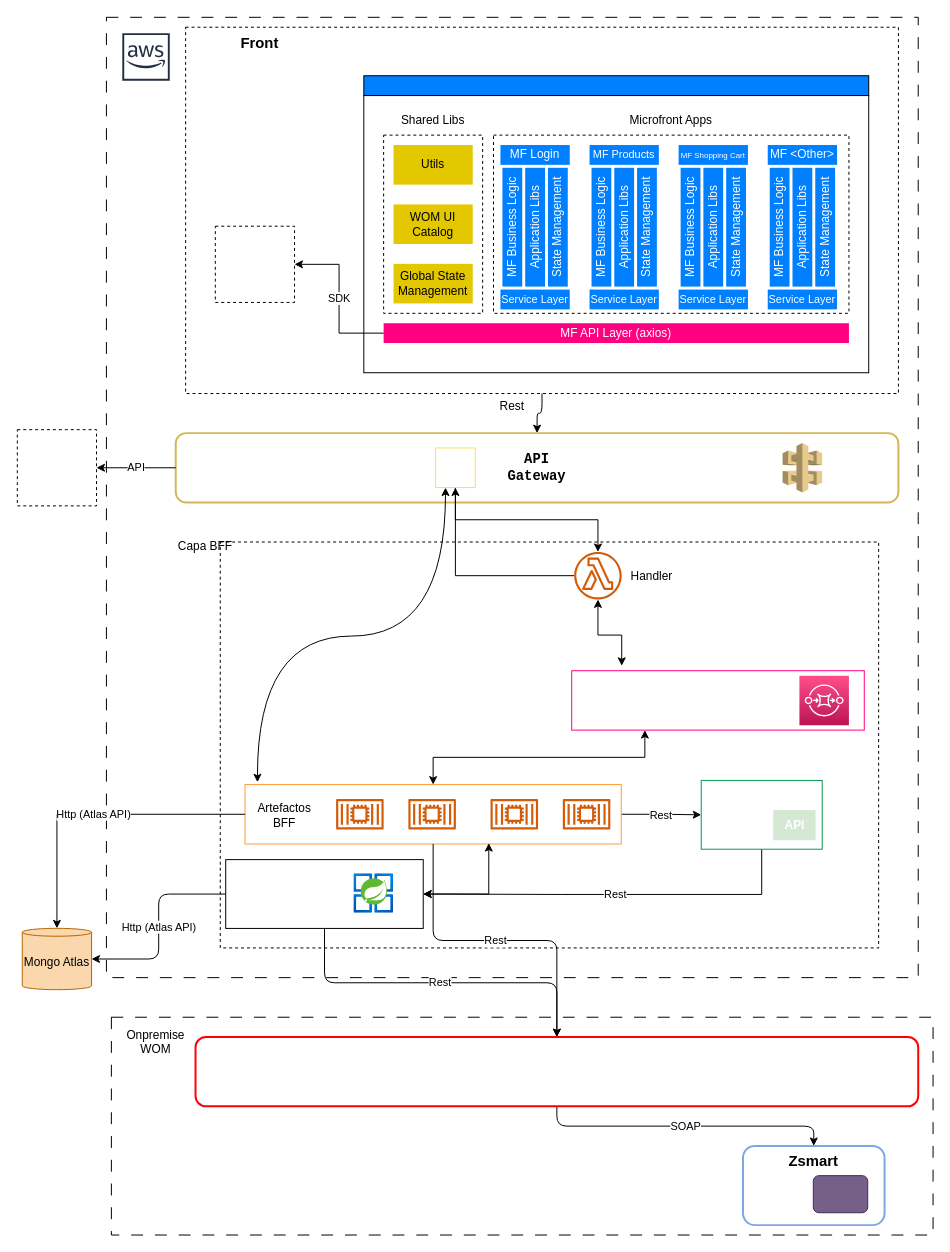
Some shapes in this 950 by 1252 pixel diagram are drawn without their labels. The shapes that lost their labels are listed below. From the top down, each one's box as (x1, y1, x2, y2) in pixels, then its label:
(115, 26, 176, 87): AWS Cloud
(363, 75, 869, 96): Module Federatio n
(214, 225, 295, 302): Google Analitycs
(16, 429, 97, 506): Contentful
(435, 447, 475, 488): HTTP Rest
(571, 670, 864, 730): SQS
(700, 779, 822, 849): Magento
(225, 859, 423, 928): Artefactos TMF
(194, 1036, 919, 1107): API Cast Ecommerce
(812, 1175, 868, 1213): UIP
